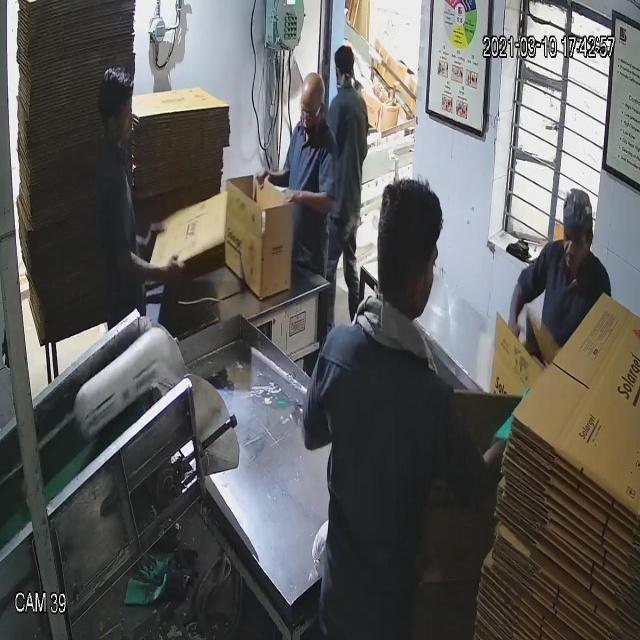Sin_guantes: (103, 236, 207, 300), (271, 177, 339, 235)
